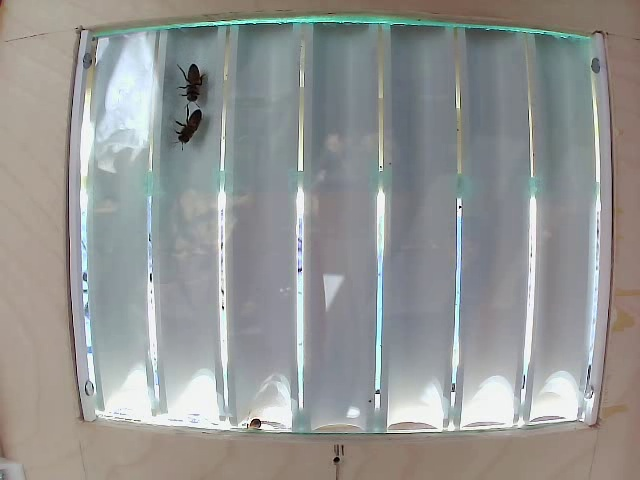bee: (172, 97, 208, 153), (180, 48, 208, 97)
